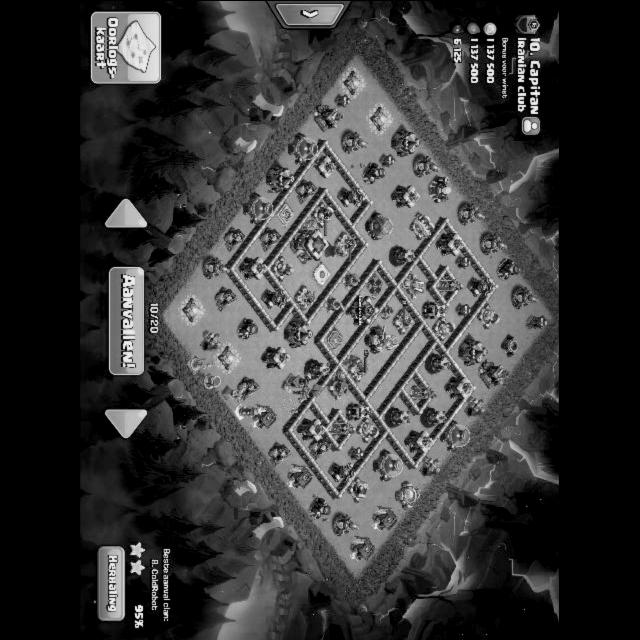AD: (261, 288, 291, 308), (328, 461, 358, 481), (468, 275, 497, 295), (337, 186, 366, 206)
AirSweeper: (324, 294, 348, 313), (342, 270, 362, 289)
BombTower: (347, 403, 374, 419), (424, 301, 450, 317)
Canon: (410, 212, 435, 238), (478, 302, 502, 328), (433, 314, 457, 340), (357, 416, 381, 442), (272, 254, 295, 280), (312, 200, 334, 226), (348, 475, 370, 501)
ClanCastle: (348, 295, 381, 324)
Eagle: (365, 324, 400, 352)
Inferno: (437, 276, 463, 292), (410, 384, 436, 400), (329, 420, 354, 436)
KingPad: (278, 202, 295, 225)
Mortar: (498, 257, 522, 279), (363, 161, 387, 183), (309, 496, 332, 518), (238, 316, 260, 338)
QueenPad: (367, 273, 385, 297)
RcPad: (329, 330, 343, 349)
Scattershot: (327, 370, 350, 399), (402, 273, 427, 297)
TH13: (291, 227, 331, 260)
WardenPad: (315, 263, 330, 284)
WizzTower: (305, 358, 331, 378), (421, 407, 448, 426), (390, 245, 417, 264), (385, 407, 412, 426), (427, 353, 453, 372)
Xbow: (294, 284, 317, 310), (348, 355, 370, 381), (336, 230, 358, 256), (393, 308, 414, 334)
